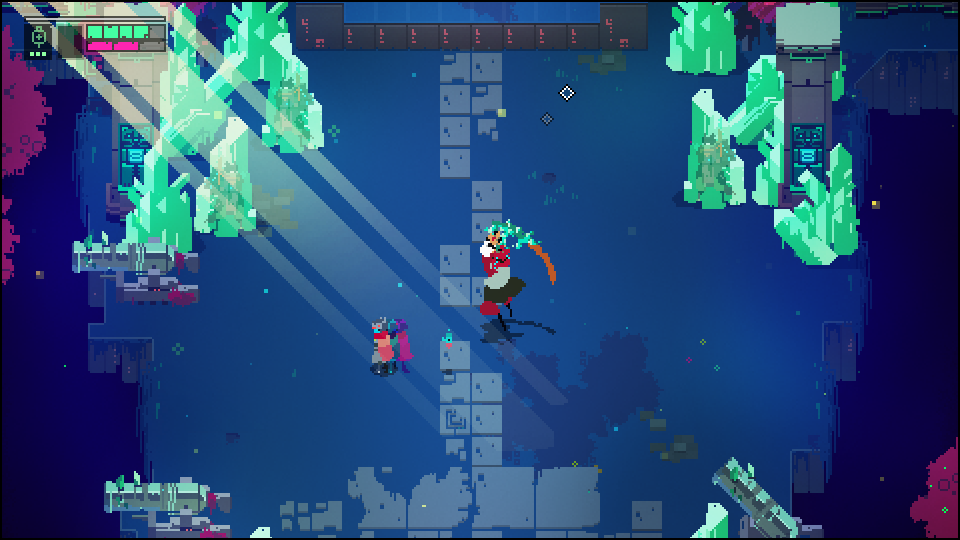hanged_man: (476, 221, 560, 330)
player: (368, 323, 395, 378)
